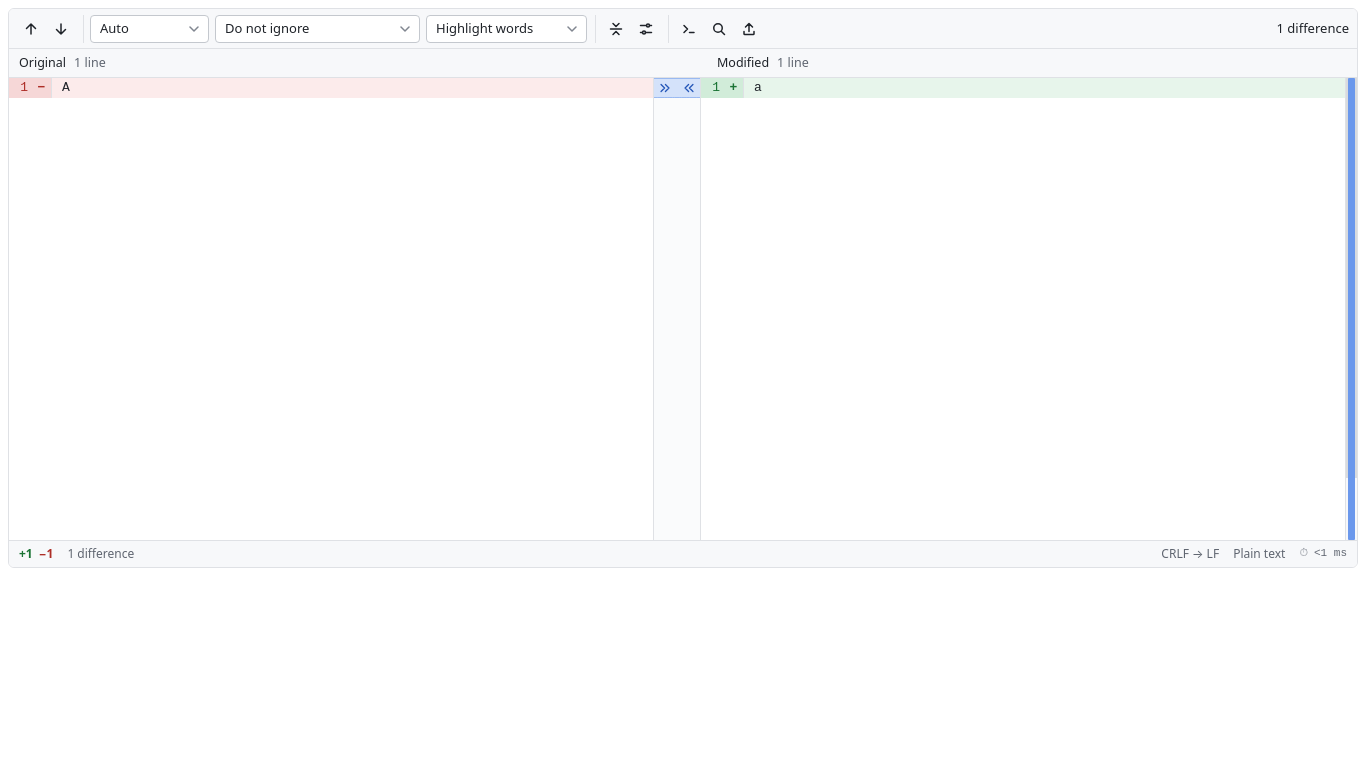
Test: <DiffViewer> options › offers case and line-ending settings in an accessible popover
The image size is (1366, 768).
Click the button named "Comparison settings" at (646, 28), box [632, 14, 660, 42]
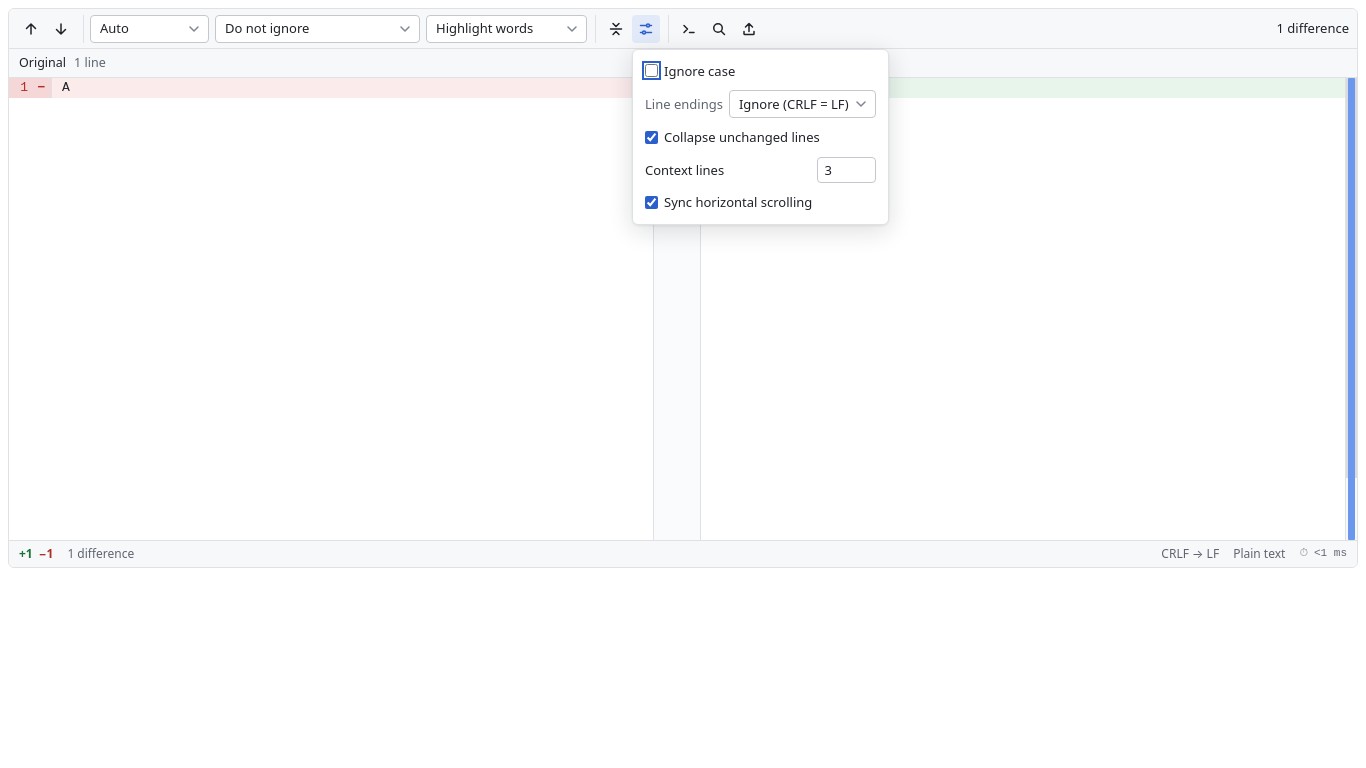
Click the checkbox labelled "Ignore case" at (652, 71), box [645, 64, 658, 77]
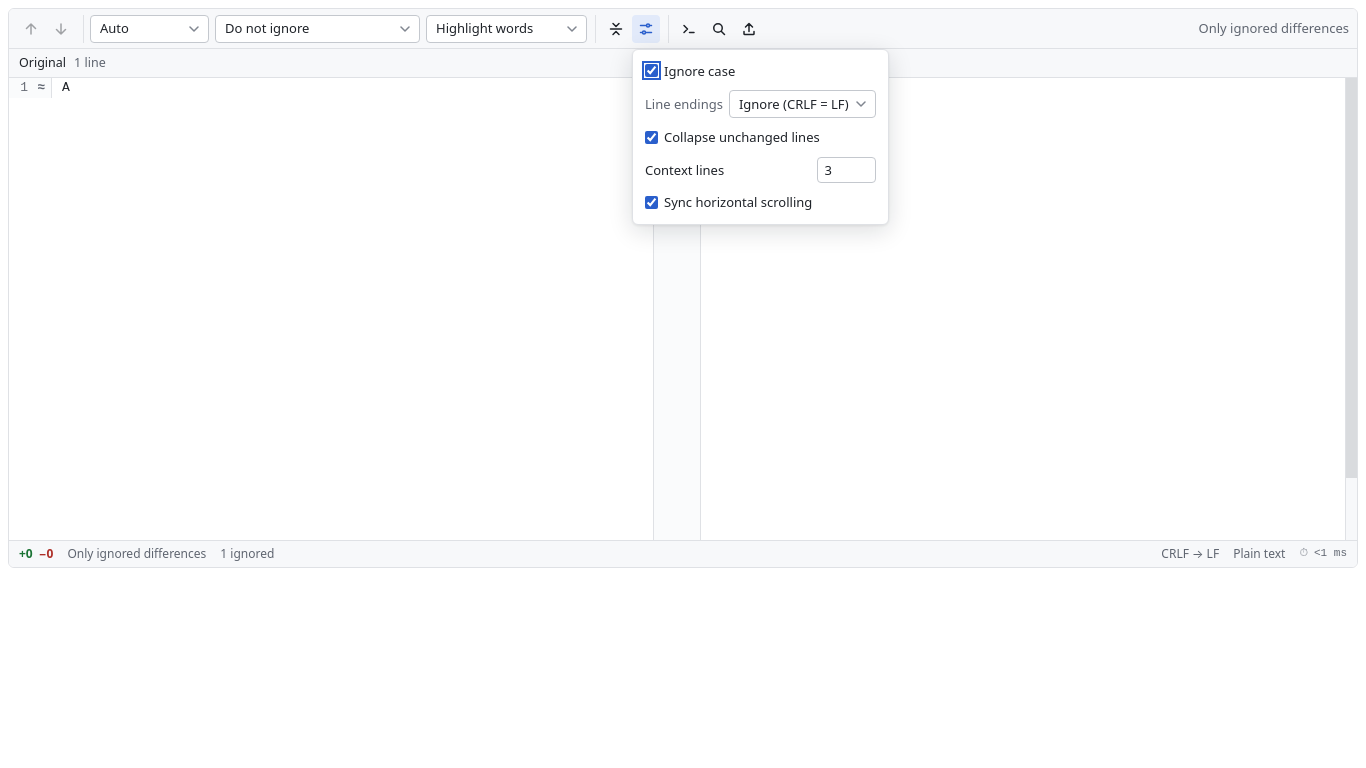
expect the element named "Comparison tools" shows "Only ignored differences": met, box [1198, 19, 1349, 37]
Select "Compare" in the dropdown labelled "Line endings" at (802, 104), box [729, 90, 876, 118]
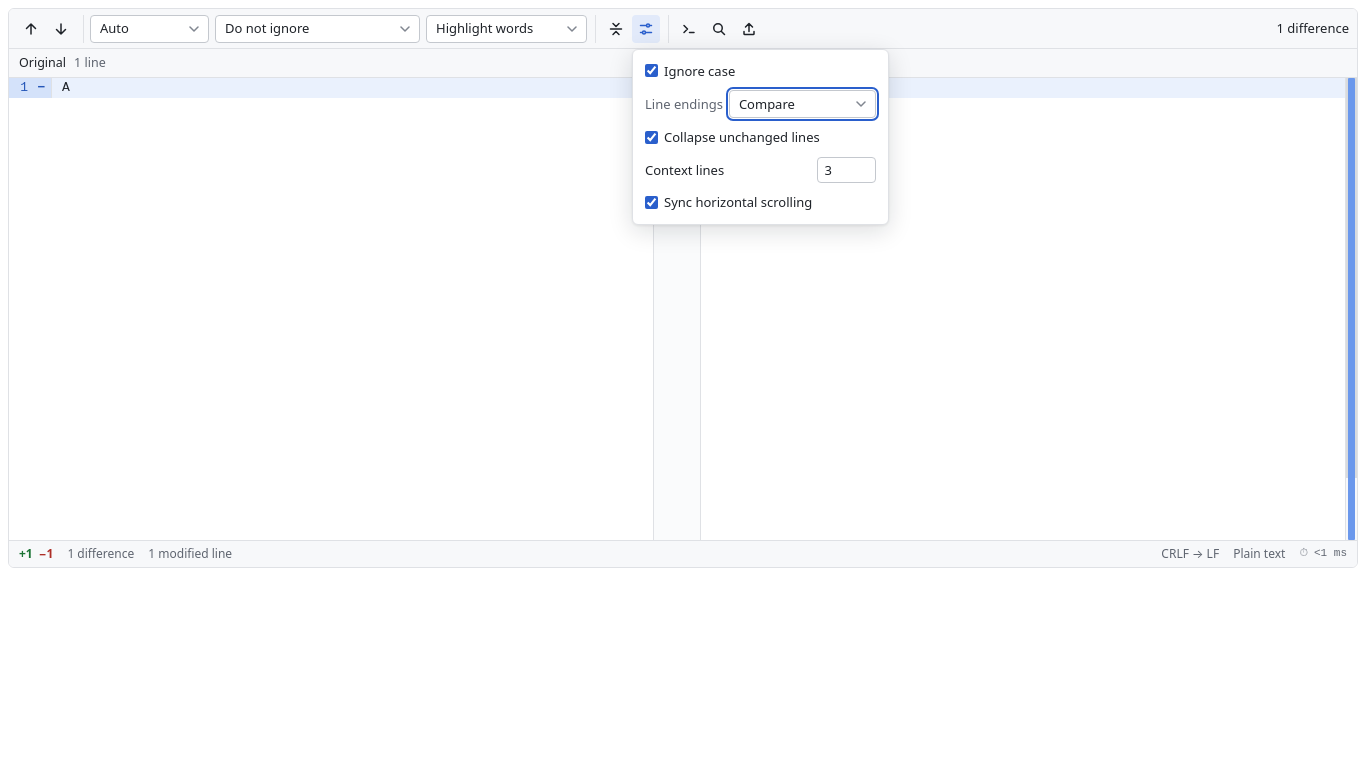
expect the element named "Comparison tools" shows "1 difference": met, box [1276, 19, 1349, 37]
Press Escape
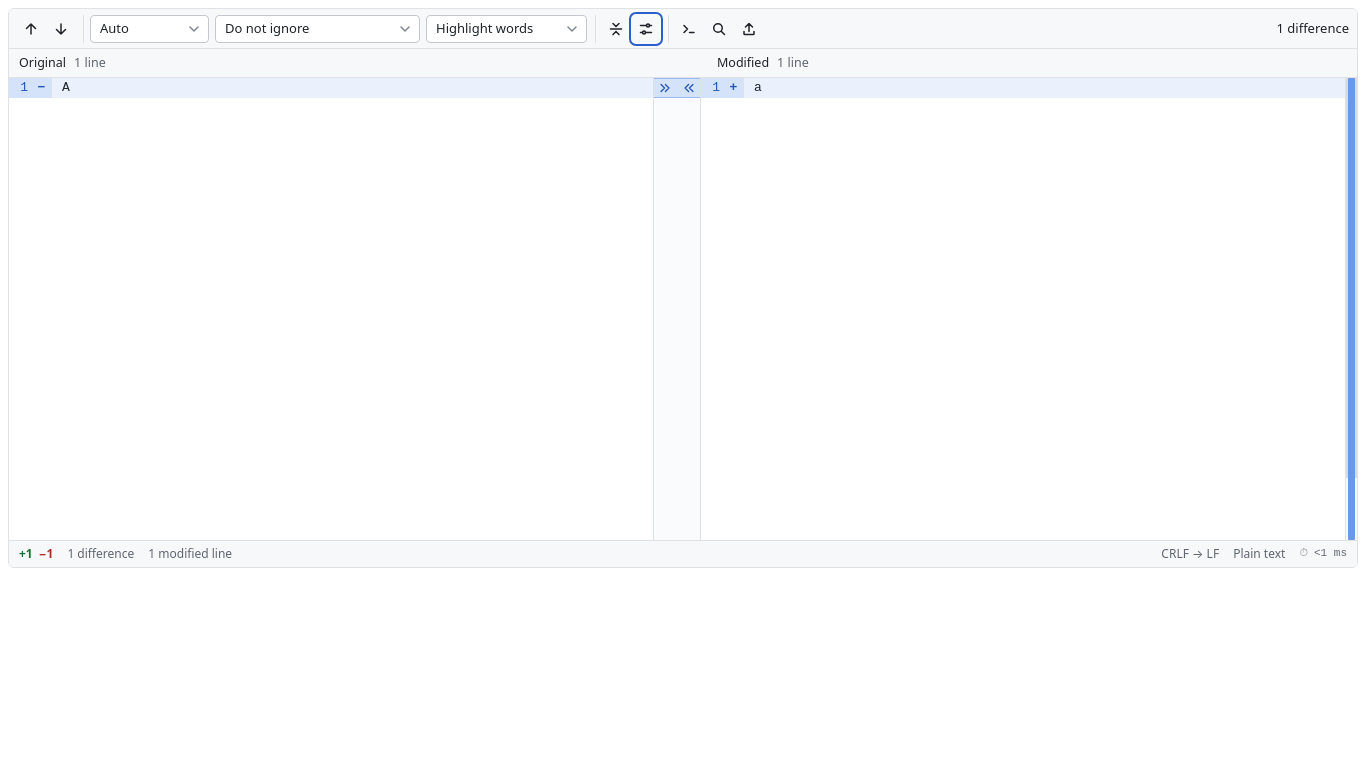
expect the dialog is gone: met
